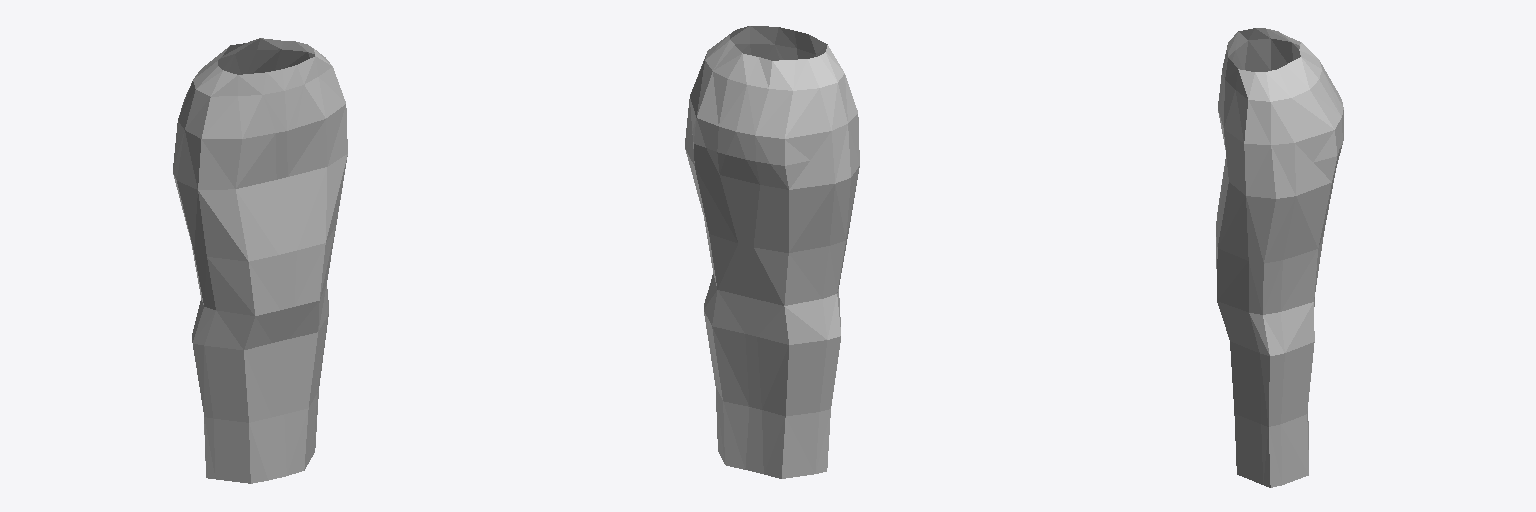
Rendered from avatar_skirt.obj.
The picture shows the model from 3 angles: view 1: azimuth 30°, elevation 25°; view 2: azimuth 150°, elevation 25°; view 3: azimuth 270°, elevation 25°; orthographic projection.
Visible parts, largest first — view 1: g1_avatar_skirt; view 2: g1_avatar_skirt; view 3: g1_avatar_skirt.
Boxes of the visible parts, x1,y1,x2,y2 form: g1_avatar_skirt: [173, 38, 347, 483]; g1_avatar_skirt: [685, 26, 859, 478]; g1_avatar_skirt: [1216, 28, 1343, 487].
Bounding box in the file's own units: 0.4622 × 1.12 × 0.3149.